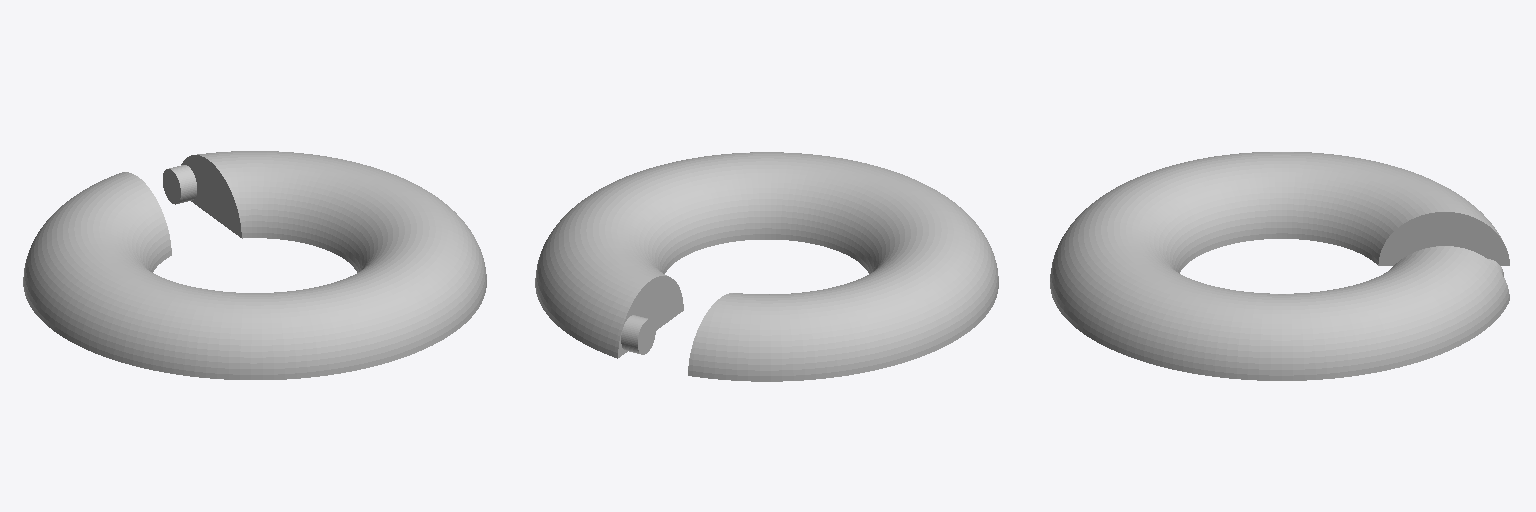
The model's file is knotted_ring.obj.
3 views of the same model, side by side, from view 1: azimuth 30°, elevation 25°; view 2: azimuth 150°, elevation 25°; view 3: azimuth 270°, elevation 25° (orthographic).
Size of the model in its own units: 31 by 4 by 30.76.